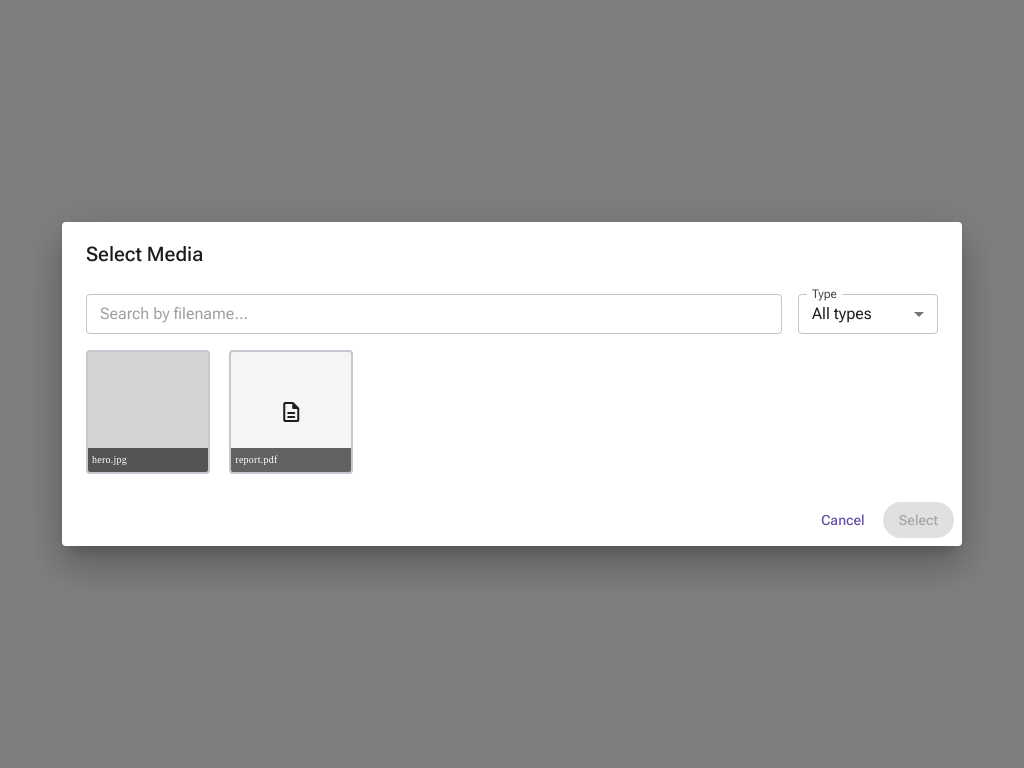
MediaPickerDialog › selecting a tile enables confirm button
Click the button "hero.jpg": (148, 412) [86,350,210,474]
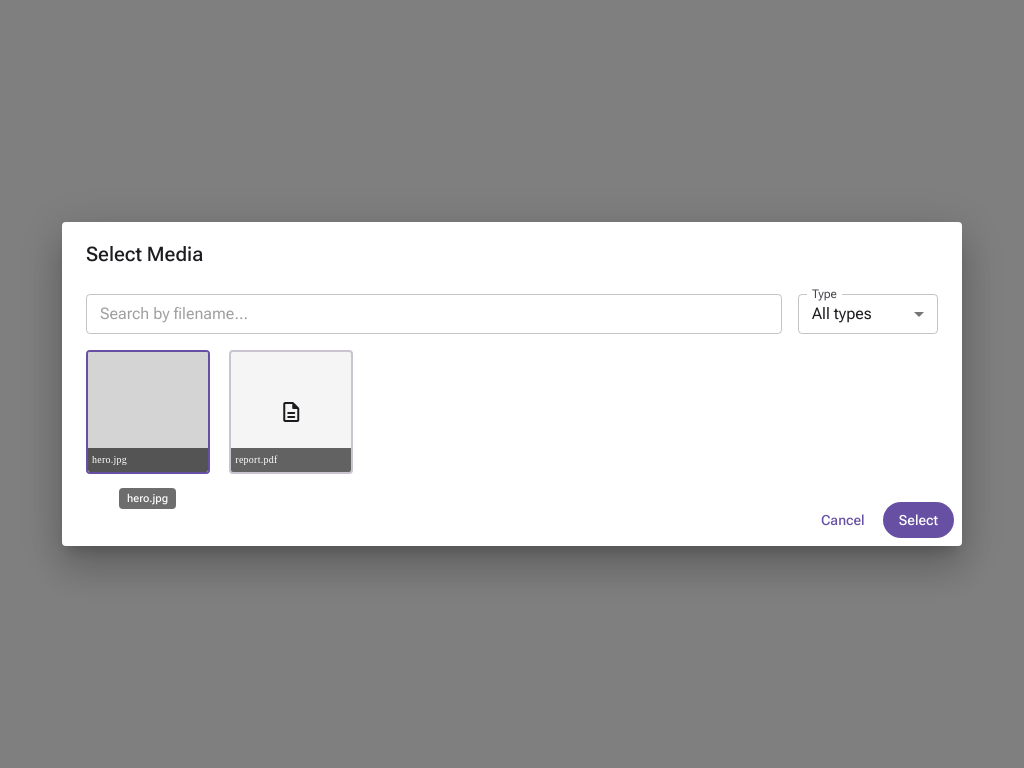
Expected: the button "Select" is enabled, [883,502,954,538]
